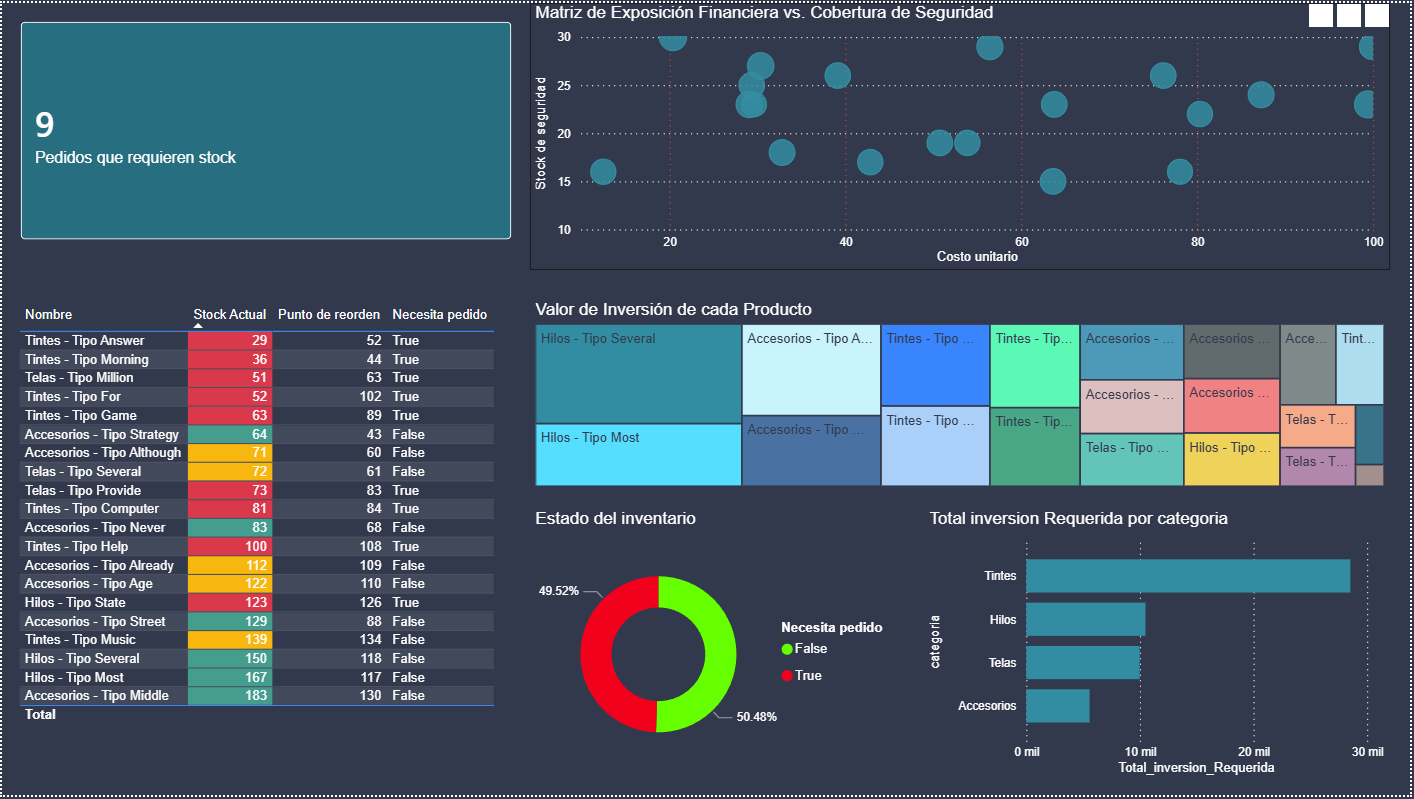

This screenshot's page, from the dashboard's own definition file:
{"tool":"powerbi","page":{"name":"Página 1","canvas":[1280,720],"ordinal":0},"visuals":[{"type":"cardVisual","title":"AS","fields":{"Data":["CountNonNull(reporte_inventario.necesita_pedido)"]},"box":[0,0,480,232.9],"z":0},{"type":"tableEx","fields":{"Values":["reporte_inventario.nombre","reporte_inventario.stock_actual","reporte_inventario.punto_reorden","reporte_inventario.necesita_pedido"]},"box":[10,270,470,400],"z":1000},{"type":"scatterChart","title":"Matriz de Exposición Financiera vs. Cobertura de Seguridad","fields":{"X":["Sum(reporte_inventario.costo_unitario)"],"Y":["Sum(reporte_inventario.stock_seguridad)"],"Size":["Sum(reporte_inventario.demanda_promedio)"],"Category":["reporte_inventario.nombre"]},"box":[480,0,781.4,242.9],"z":2000},{"type":"donutChart","title":"Estado del inventario","fields":{"Category":["reporte_inventario.necesita_pedido"],"Y":["Sum(reporte_inventario.producto_id)"]},"box":[480,460,341.4,247.1],"z":3000},{"type":"treemap","title":"Valor de Inversión de cada Producto","fields":{"Group":["reporte_inventario.nombre"],"Values":["reporte_inventario.Stock_value"]},"box":[480,270,781.4,174.3],"z":4000},{"type":"clusteredBarChart","title":"Total inversion Requerida por categoria","fields":{"Category":["reporte_inventario.categoria"],"Y":["reporte_inventario.Total_inversion_Requerida"]},"box":[838.6,460,422.9,247.1],"z":5000}]}

Visuals, with their boxes in screenshot pixels (x1, y1, x2, y2), scaled from the page's 1280x720 canvas onto the 1414x799 screenshot:
"AS" cardVisual: BBox(0, 0, 530, 258)
tableEx - reporte_inventario.nombre x reporte_inventario.stock_actual: BBox(11, 300, 530, 744)
"Matriz de Exposición Financiera vs. Cobertura de Seguridad" scatterChart: BBox(530, 0, 1393, 270)
"Estado del inventario" donutChart: BBox(530, 510, 907, 785)
"Valor de Inversión de cada Producto" treemap: BBox(530, 300, 1393, 493)
"Total inversion Requerida por categoria" clusteredBarChart: BBox(926, 510, 1394, 785)
